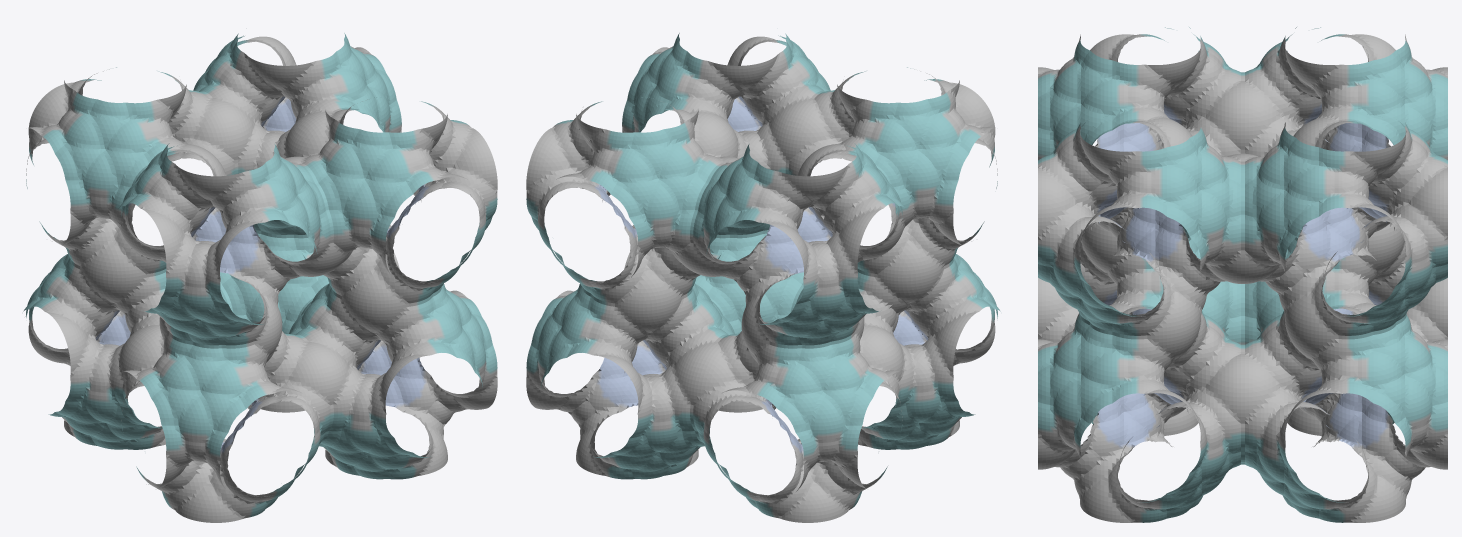
File: 05_pocket_types.glb
3 renders of one model, left to right at view 1: azimuth 30°, elevation 25°; view 2: azimuth 150°, elevation 25°; view 3: azimuth 270°, elevation 25°, orthographic. The views are drawn at different scales.
Parts seen in each view (by area): view 1: 05_pocket_types_trace0_mesh0; view 2: 05_pocket_types_trace0_mesh0; view 3: 05_pocket_types_trace0_mesh0.
Part boxes in pixels (x1,y1,x2,y2): 05_pocket_types_trace0_mesh0: (23,33,497,522); 05_pocket_types_trace0_mesh0: (526,33,1000,522); 05_pocket_types_trace0_mesh0: (1038,27,1447,522).
Bounding box in the file's own units: 26.09 × 26.09 × 26.09.
